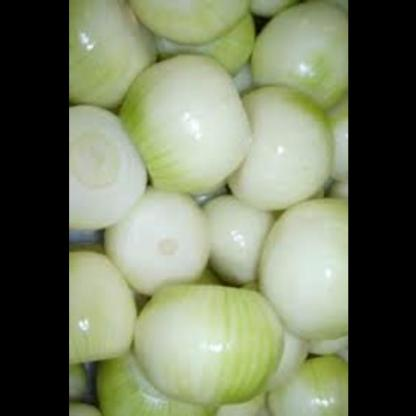onion: (74, 2, 349, 416)
